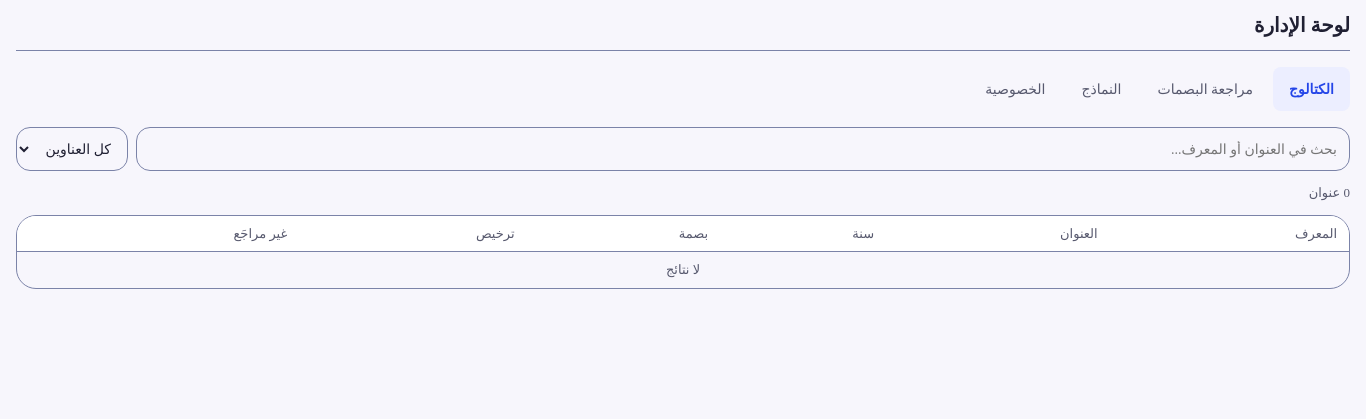
Scenario: AdminScreen models tab (ADMIN-W1 ADM-P1-06/P0-01/P1-07) › shows readiness and the training queue even when the model-version list fails to load
What coordinates should you click on to do the following:
click the tab "النماذج"
I would click on:
 (1102, 89)
Its box is top-left (1066, 67), bottom-right (1138, 111).
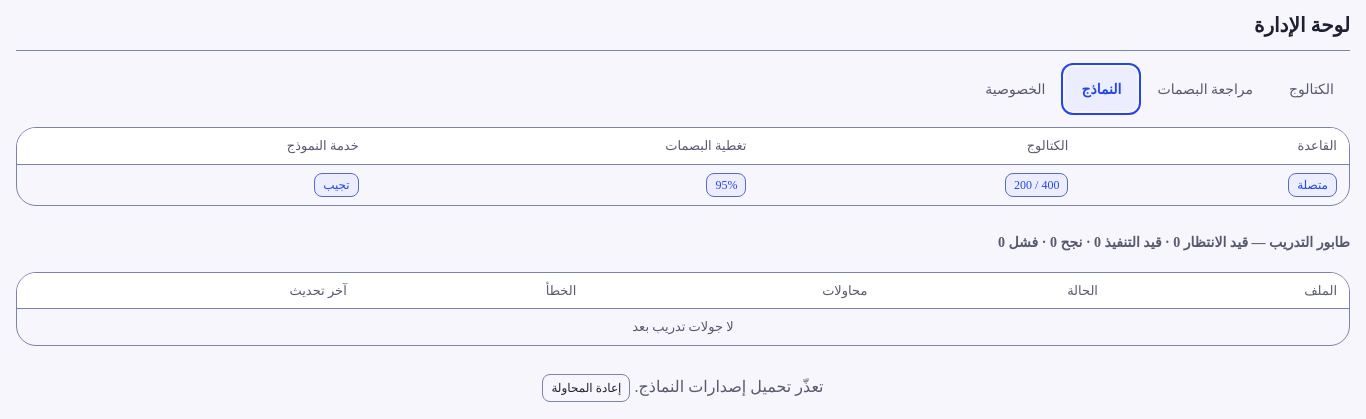
expect the text "متصلة" is shown: met, box top-left (1288, 172), bottom-right (1337, 196)
expect the heading "طابور التدريب" is shown: met, box top-left (1180, 234), bottom-right (1350, 250)
expect the text "تعذّر تحميل إصدارات النماذج." is shown: met, box top-left (634, 378), bottom-right (824, 395)
